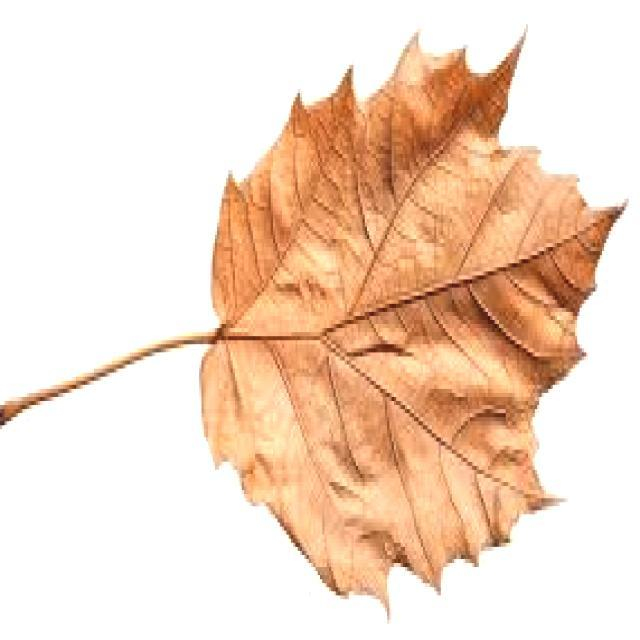leaf: (1, 23, 628, 621)
